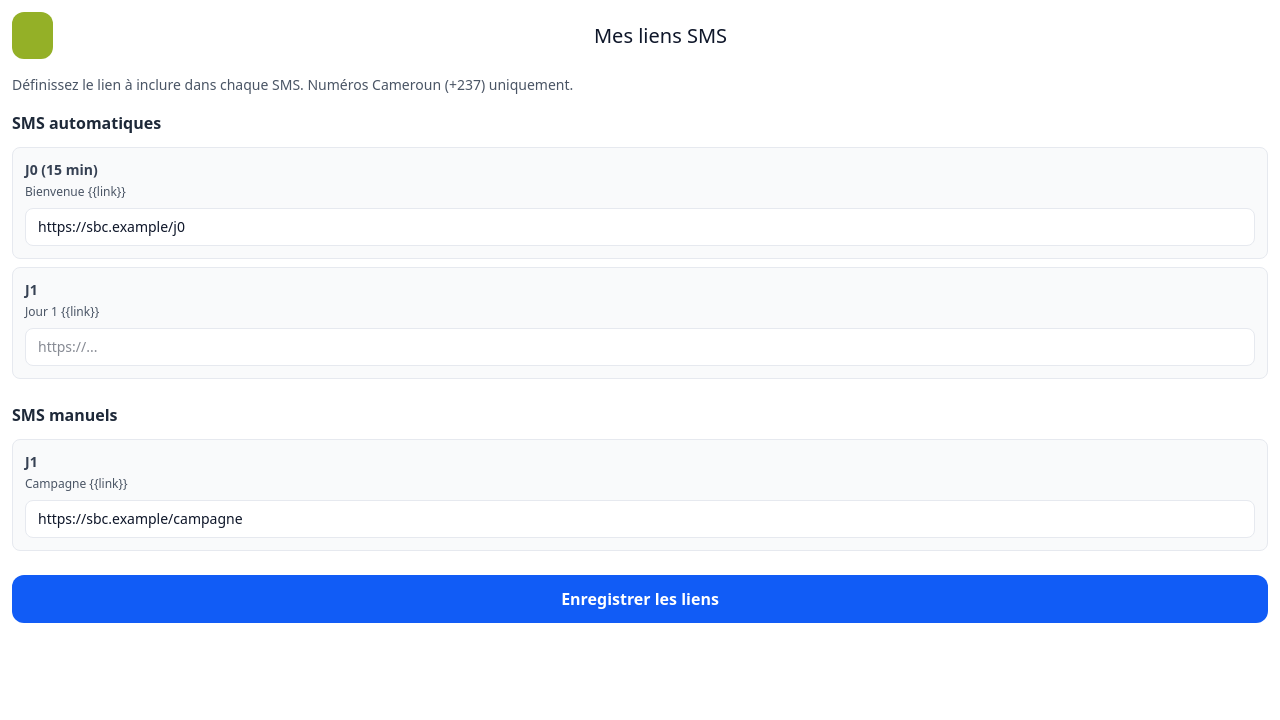
Test case: Mes liens SMS › saves every field, so a cleared link is cleared on the server too
The width and height of the screenshot is (1280, 720).
Clear the field showing "https://sbc.example/j0" below "Bienvenue {{link}}" at (640, 227), box [25,208,1255,246]
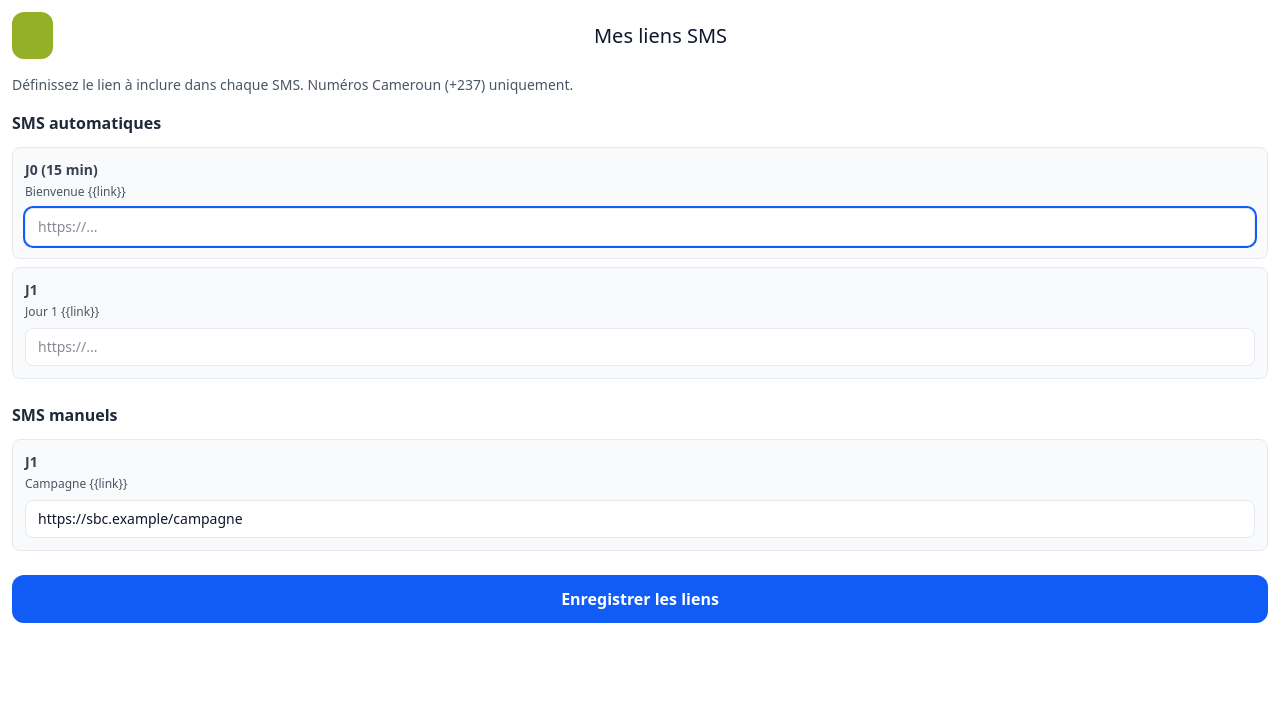
Type "https://sbc.example/j1" into the field with placeholder "https://..." below "Jour 1 {{link}}" at (640, 347), box [25,328,1255,366]
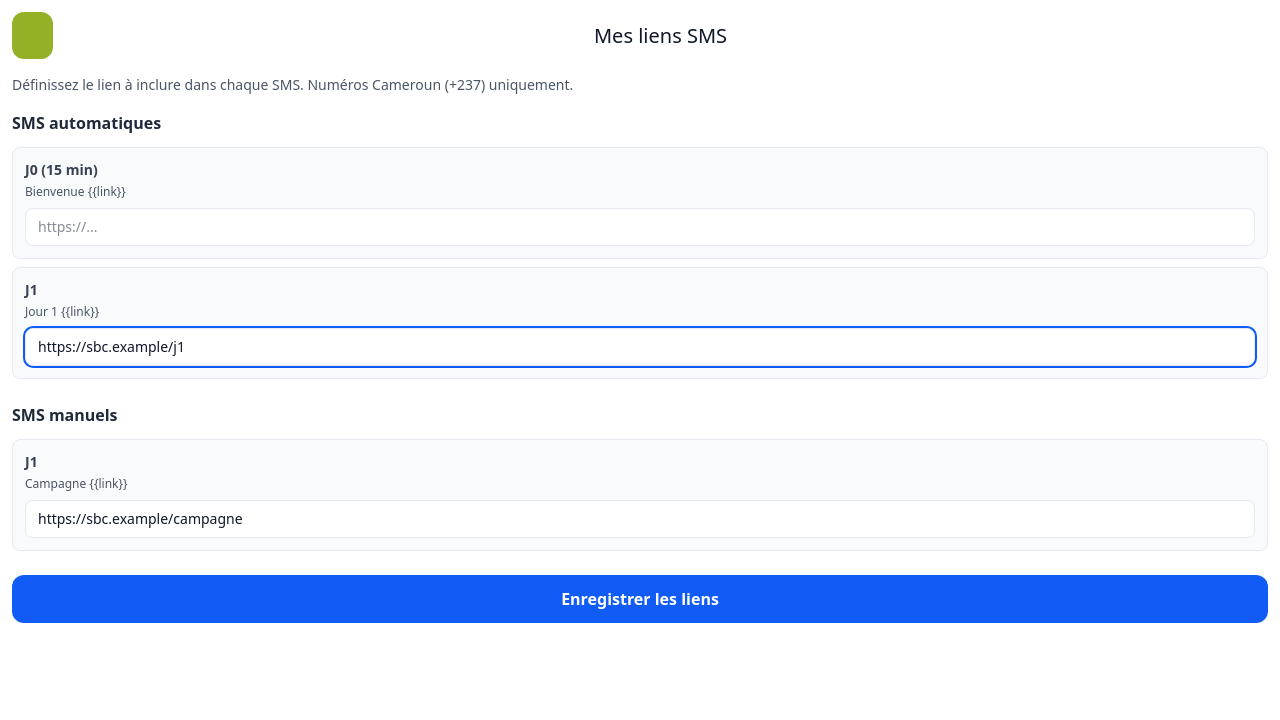
Click the button "Enregistrer les liens" at (640, 599), box [12,575,1268,623]
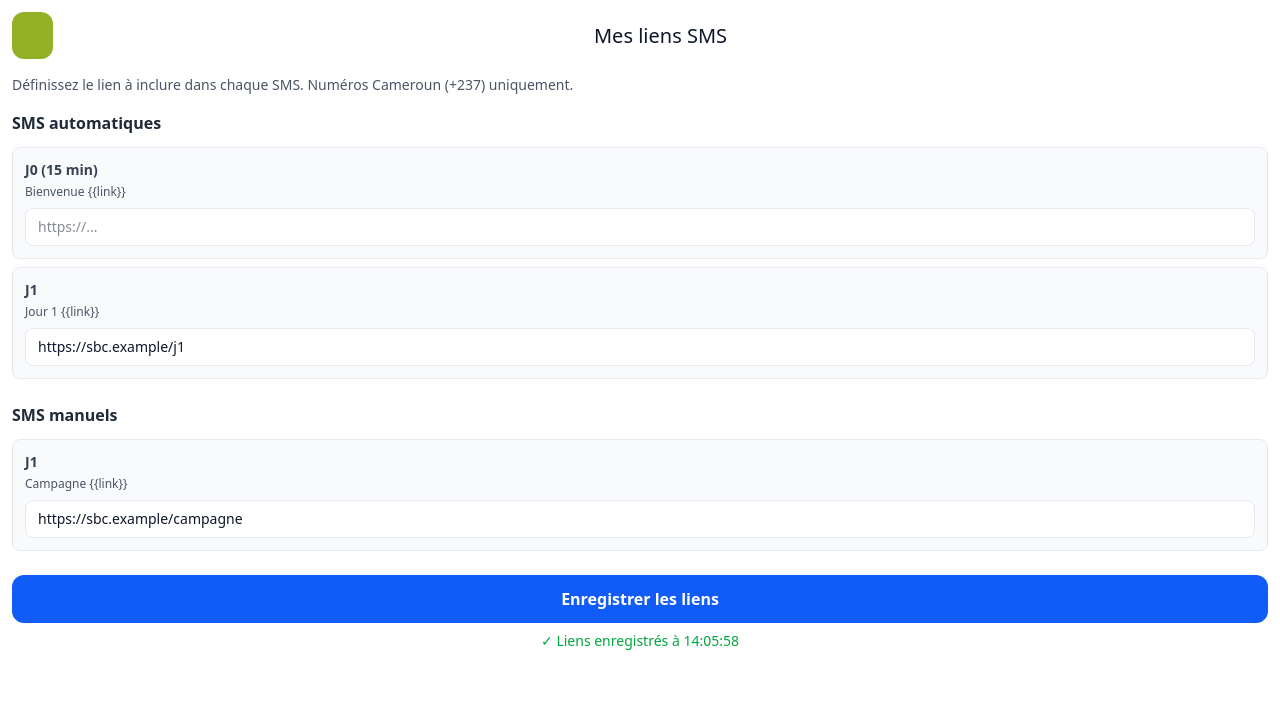
Expected: the text "✓ Liens enregistrés à 14:05:58" is shown, [541,631,739,650]
